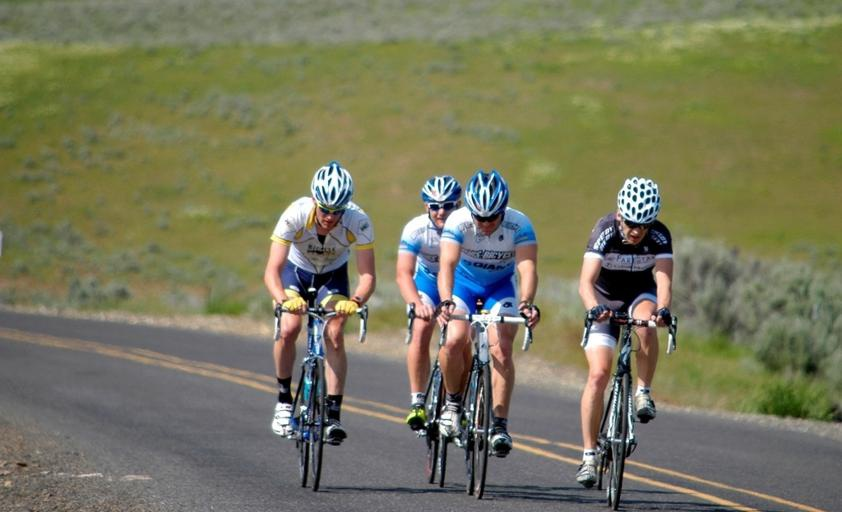non-vehicle: (427, 298, 534, 502), (577, 309, 678, 512), (269, 298, 369, 492), (402, 301, 453, 488)
